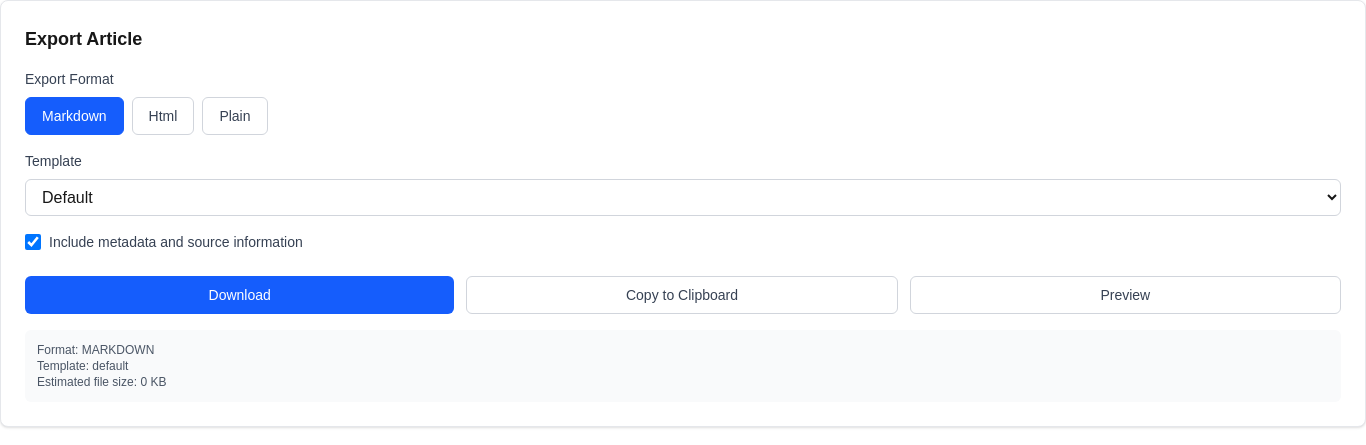
Scenario: ExportOptions › should handle copy to clipboard functionality
What coordinates should you click on to do the following:
click the button "Copy to Clipboard"
I would click on:
 (682, 295)
Its box is [466, 276, 898, 314].
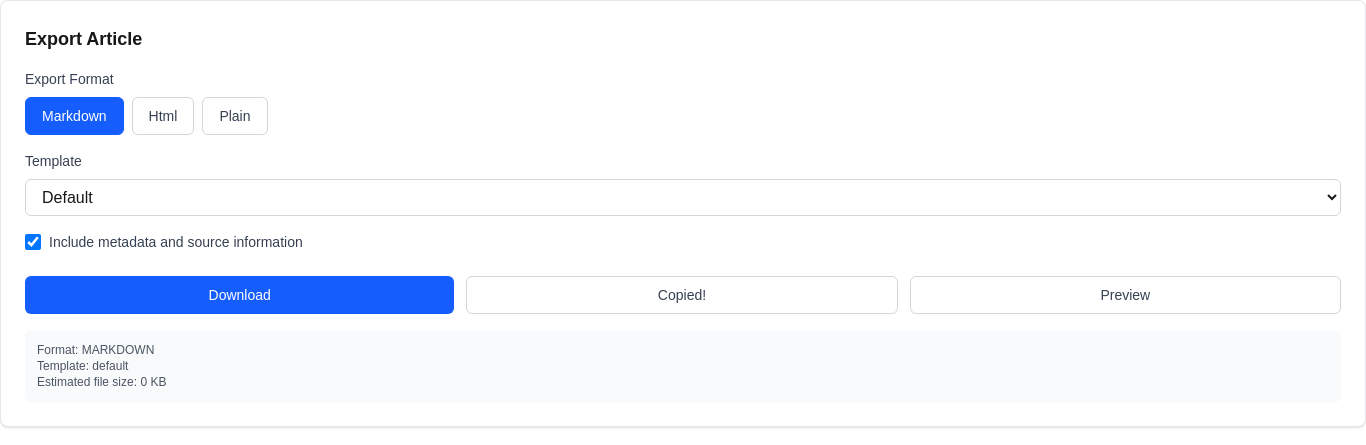
Expected: the button "Copied!" is shown, [466, 276, 898, 314]
